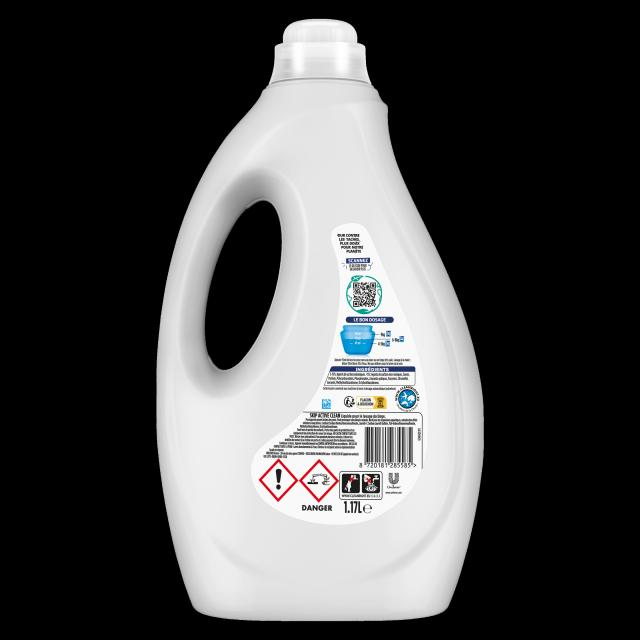GHS_Symbol_CORROSION: (299, 458, 340, 502)
GHS_Symbol_EXCLAMATION_MARK: (258, 459, 298, 502)
